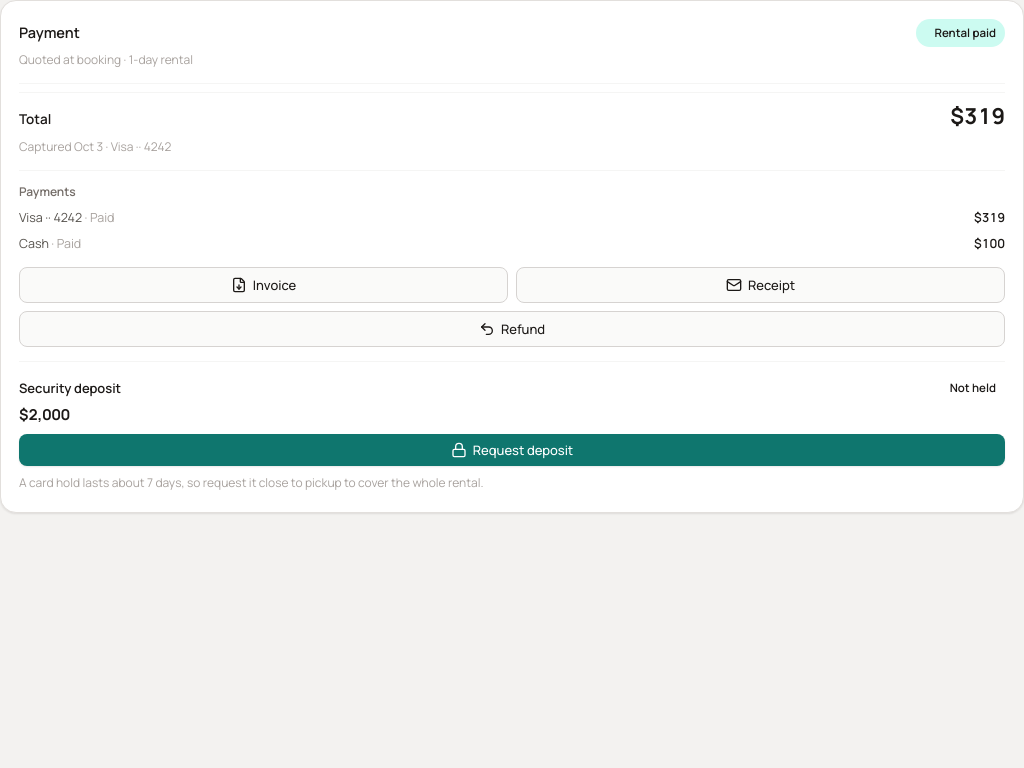
Test: BookingPaymentSection › follows the picked payment while nothing has been typed
Click the button "Refund": (512, 329) top-left (19, 311), bottom-right (1005, 347)
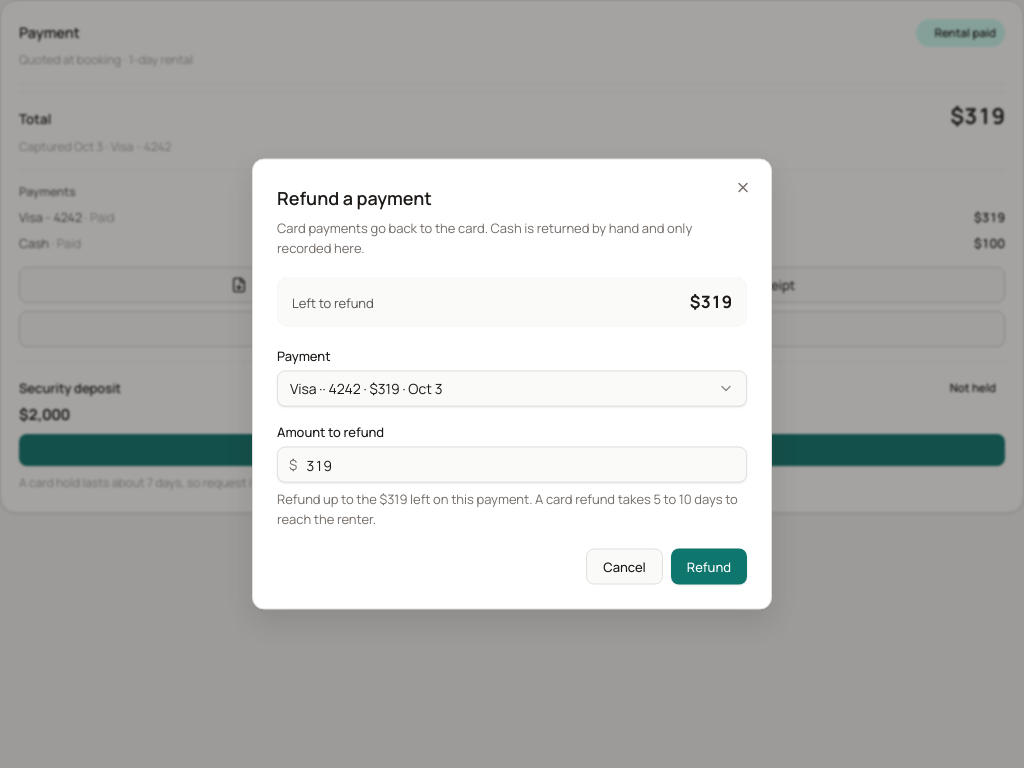
Click the dropdown: (366, 388) top-left (277, 370), bottom-right (747, 406)
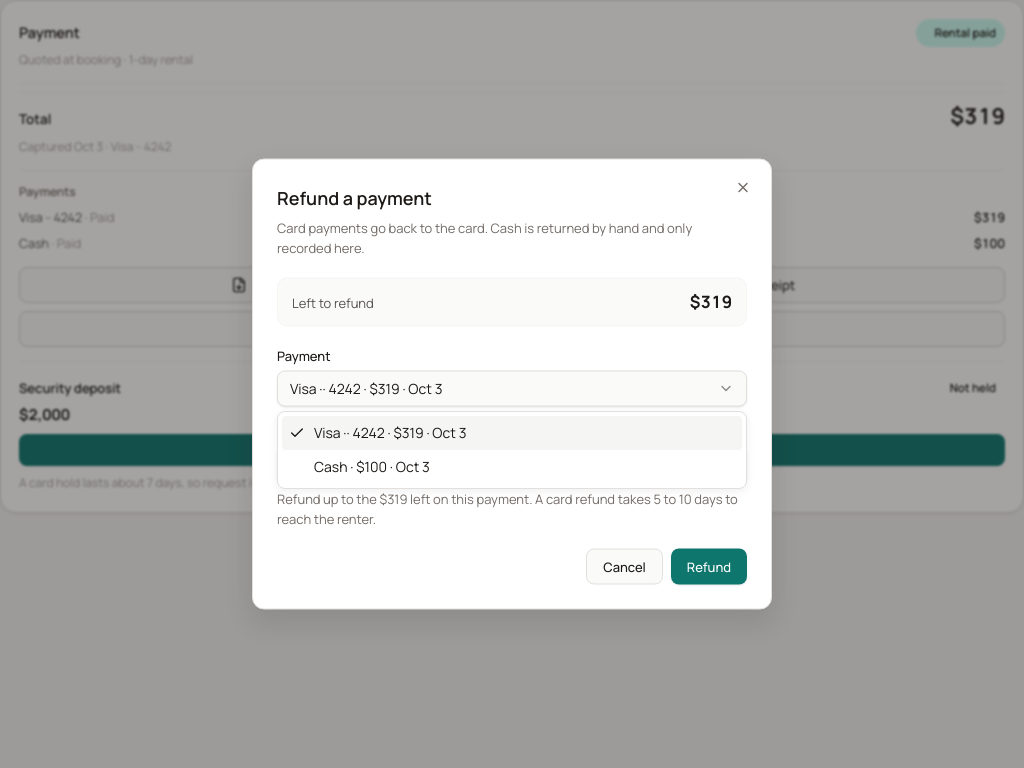
Click the option "Cash · $100 · Oct 3": (372, 466) top-left (314, 457), bottom-right (430, 476)
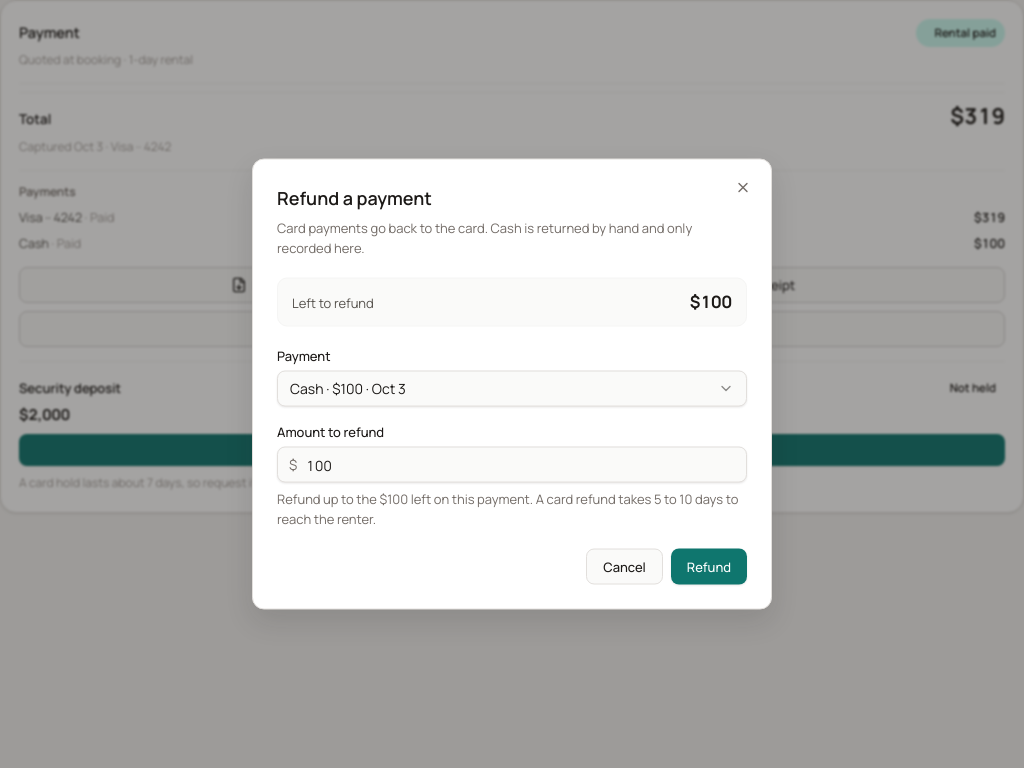
Expected: the number field labelled "Amount to refund" holds "100", top-left (277, 446), bottom-right (747, 482)
